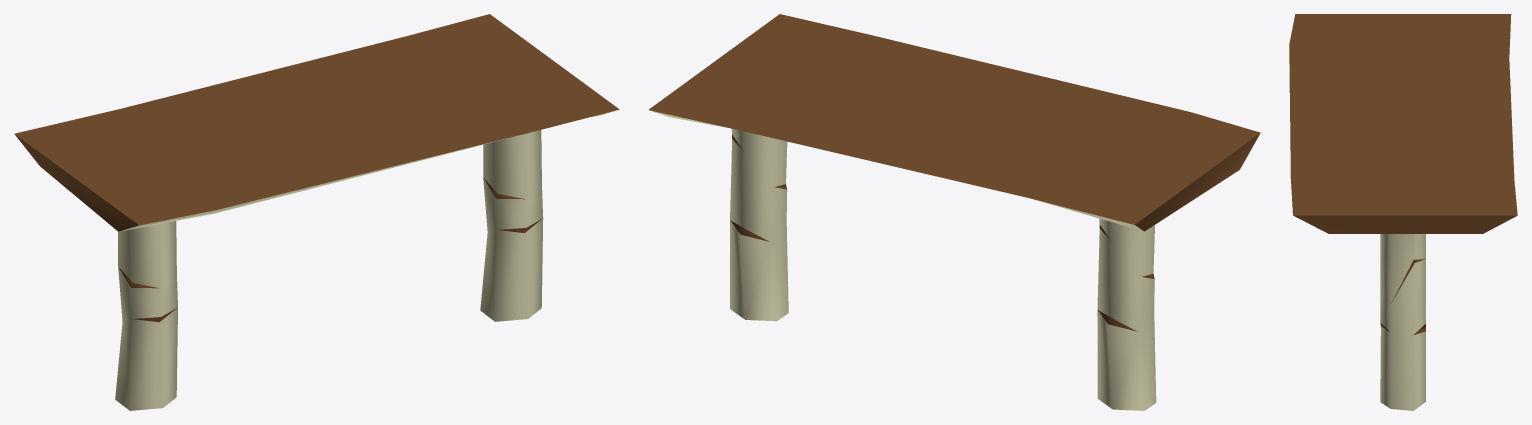
File: aspenTable_2.glb
3 views of the same model, side by side, from view 1: azimuth 30°, elevation 25°; view 2: azimuth 150°, elevation 25°; view 3: azimuth 270°, elevation 25° (orthographic). The views are drawn at different scales.
Visible parts, largest first — view 1: Cylinder.002, Cylinder, Cylinder.001; view 2: Cylinder.002, Cylinder, Cylinder.001; view 3: Cylinder.002, Cylinder.001.
Boxes of the visible parts, left/top/right/bottom form: Cylinder.002: left=14, top=14, right=619, bottom=231; Cylinder: left=115, top=221, right=177, bottom=410; Cylinder.001: left=480, top=130, right=543, bottom=321; Cylinder.002: left=648, top=14, right=1260, bottom=231; Cylinder: left=1097, top=218, right=1156, bottom=410; Cylinder.001: left=730, top=128, right=788, bottom=321; Cylinder.002: left=1289, top=14, right=1517, bottom=233; Cylinder.001: left=1380, top=234, right=1425, bottom=410.
Bounding box in the file's own units: 2.01 × 0.9572 × 0.9641.
